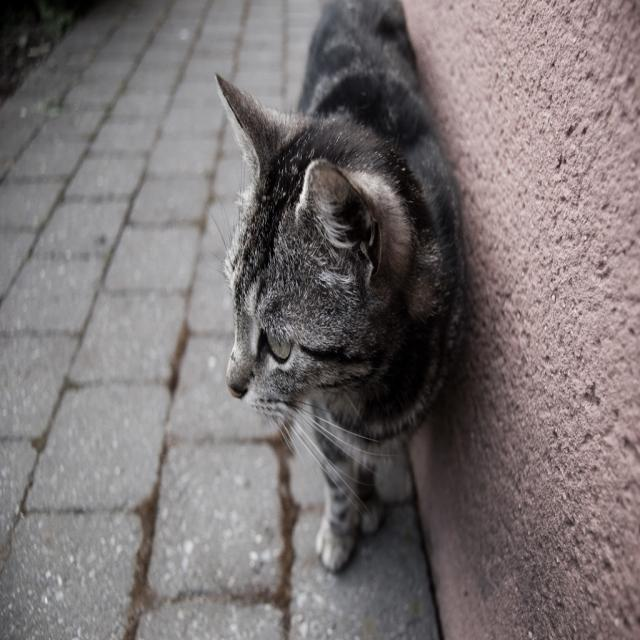Cat: (202, 0, 467, 575)
